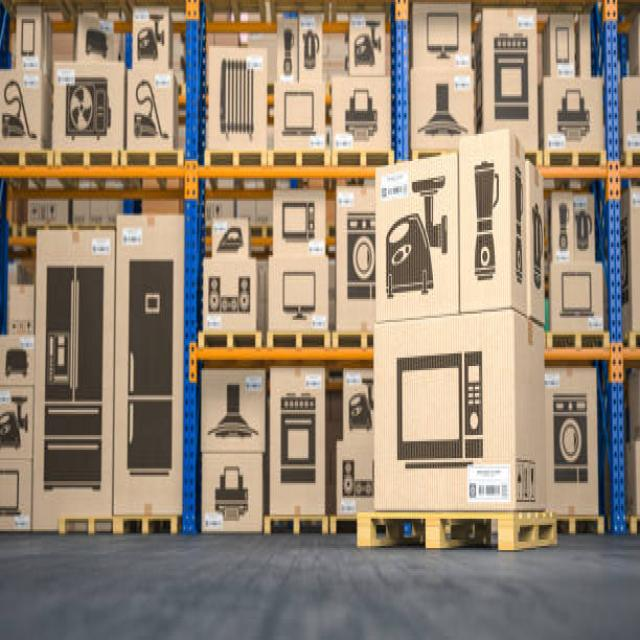Wooden-Pallets: (356, 509, 559, 557), (267, 148, 330, 173), (204, 145, 266, 170), (196, 329, 262, 351), (122, 150, 184, 173), (116, 514, 180, 536), (547, 332, 609, 354), (546, 148, 608, 169), (55, 148, 121, 167), (57, 514, 116, 535), (263, 514, 328, 533), (266, 332, 328, 348)
